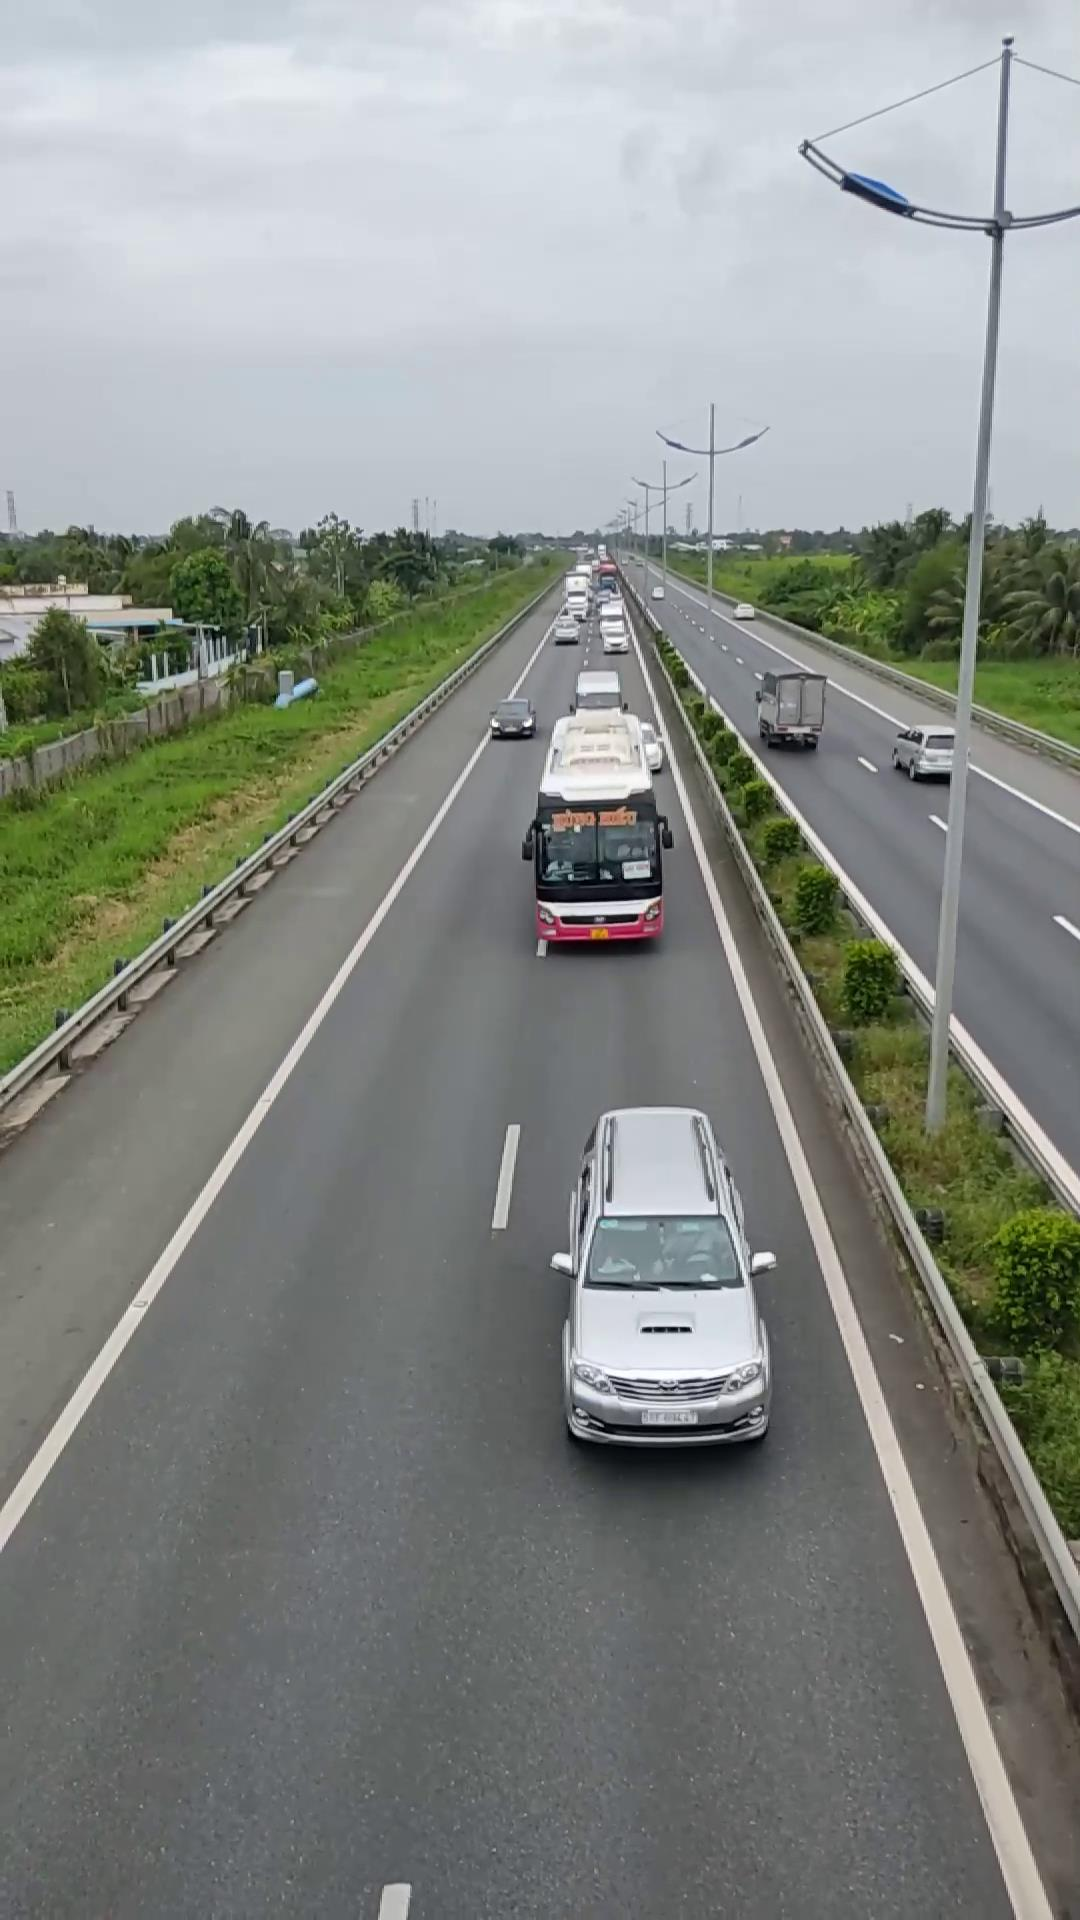bus: (521, 713, 670, 948)
car: (553, 1102, 777, 1451)
truck: (754, 663, 829, 750)
